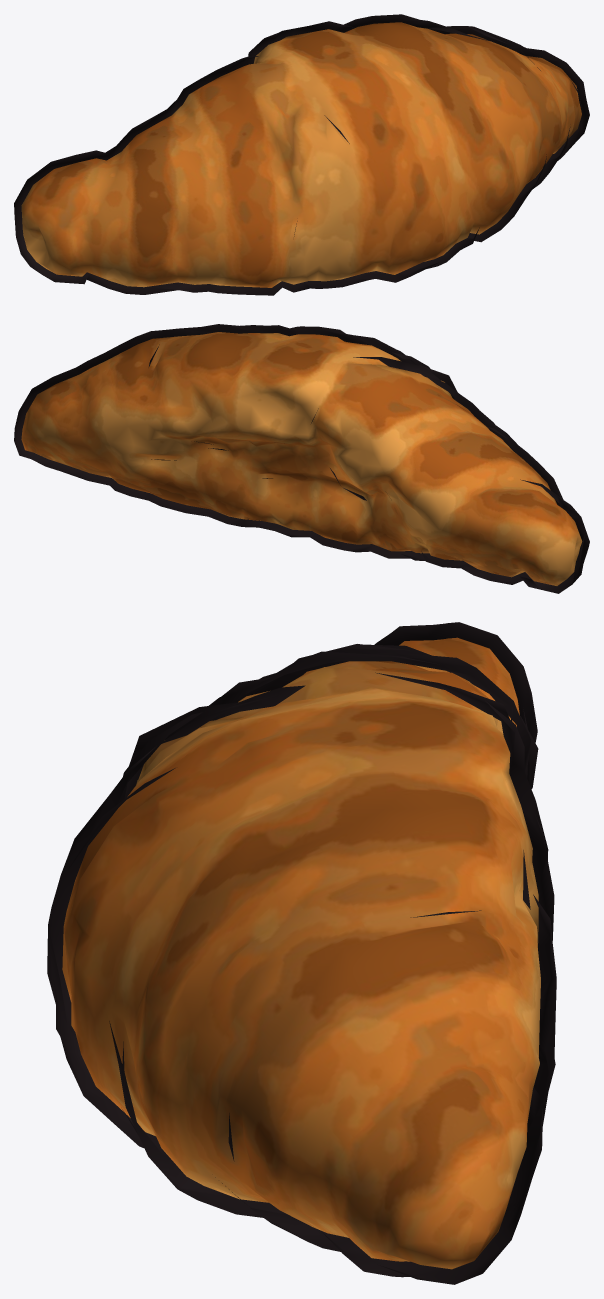
File: SM_Int_Croissant.fbx
The picture shows the model from 3 angles, top to bottom: view 1: azimuth 30°, elevation 25°; view 2: azimuth 150°, elevation 25°; view 3: azimuth 270°, elevation 25°; orthographic projection. The views are drawn at different scales.
Visible parts, largest first — view 1: SM_Int_Croissant; view 2: SM_Int_Croissant; view 3: SM_Int_Croissant.
Boxes of the visible parts, x1,y1,x2,y2 form: SM_Int_Croissant: (14, 14, 589, 295); SM_Int_Croissant: (14, 324, 589, 593); SM_Int_Croissant: (47, 622, 556, 1284).
Size of the model in its own units: 0.205 by 0.0669 by 0.0804.
